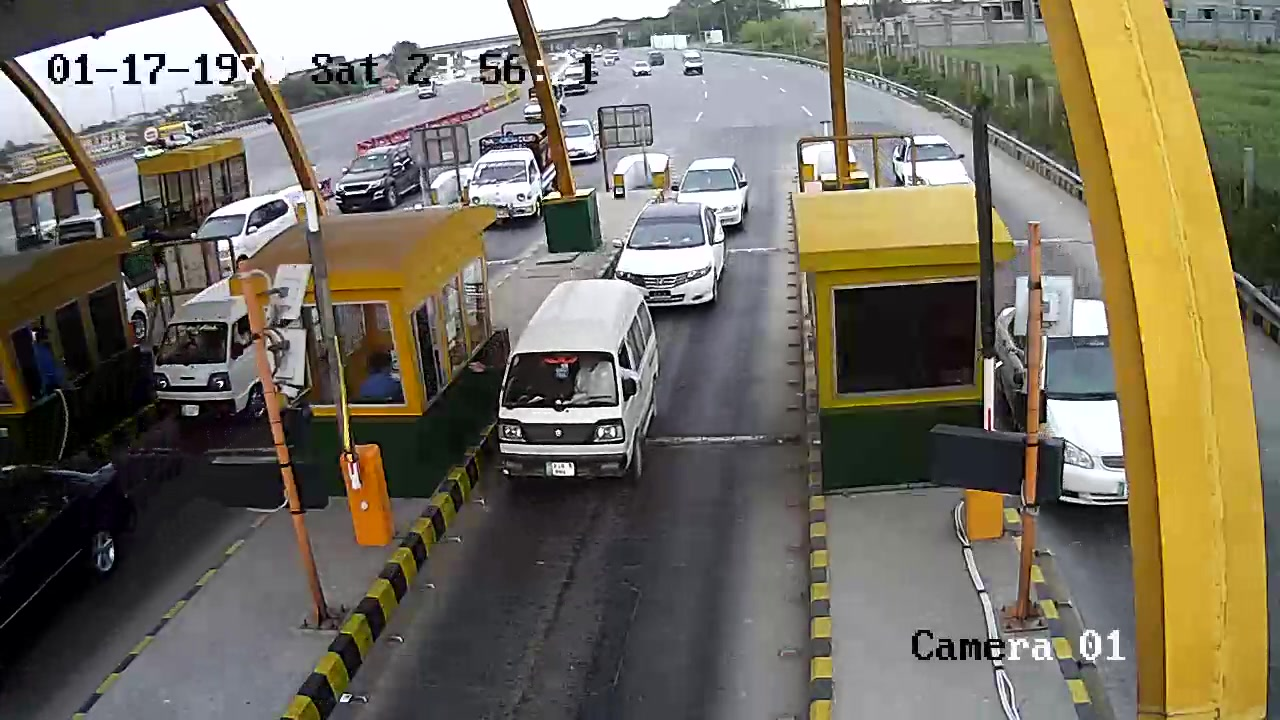F1: (491, 281, 668, 504)
